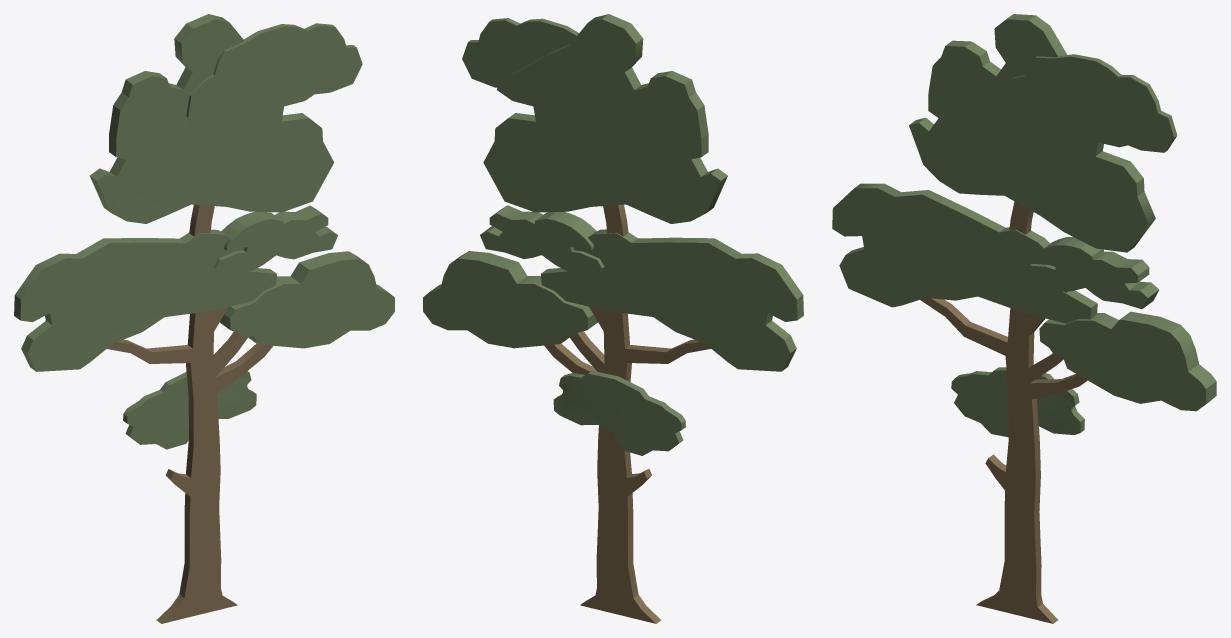
The model's file is MenuTree1.fbx.
3 views of the same model, side by side, from view 1: azimuth 30°, elevation 25°; view 2: azimuth 150°, elevation 25°; view 3: azimuth 330°, elevation 25° (orthographic).
Parts seen in each view (by area): view 1: MenuTree1; view 2: MenuTree1; view 3: MenuTree1.
Boxes of the visible parts, box(x1,y1,x2,y2) form: MenuTree1: box(14, 14, 394, 623); MenuTree1: box(423, 14, 803, 623); MenuTree1: box(832, 14, 1216, 623).
Bounding box in the file's own units: 1.39 × 2.12 × 0.0799.
